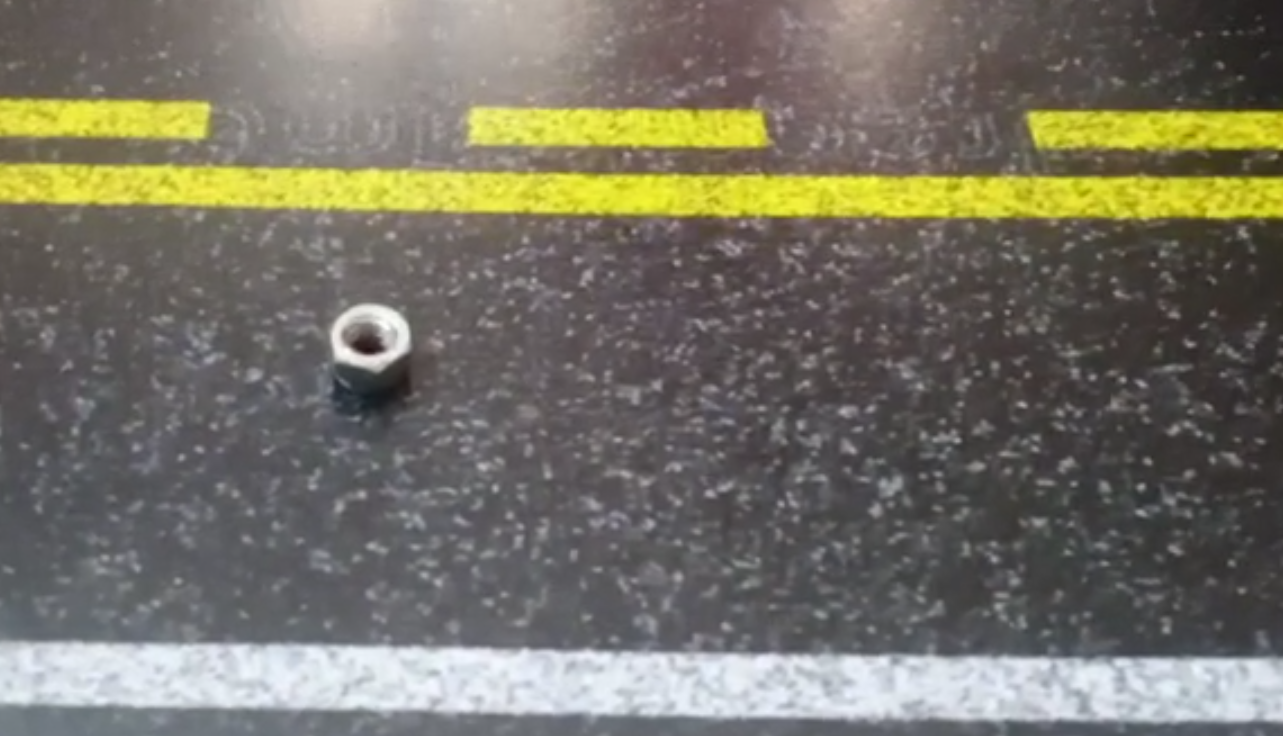metal: (327, 302, 414, 396)
